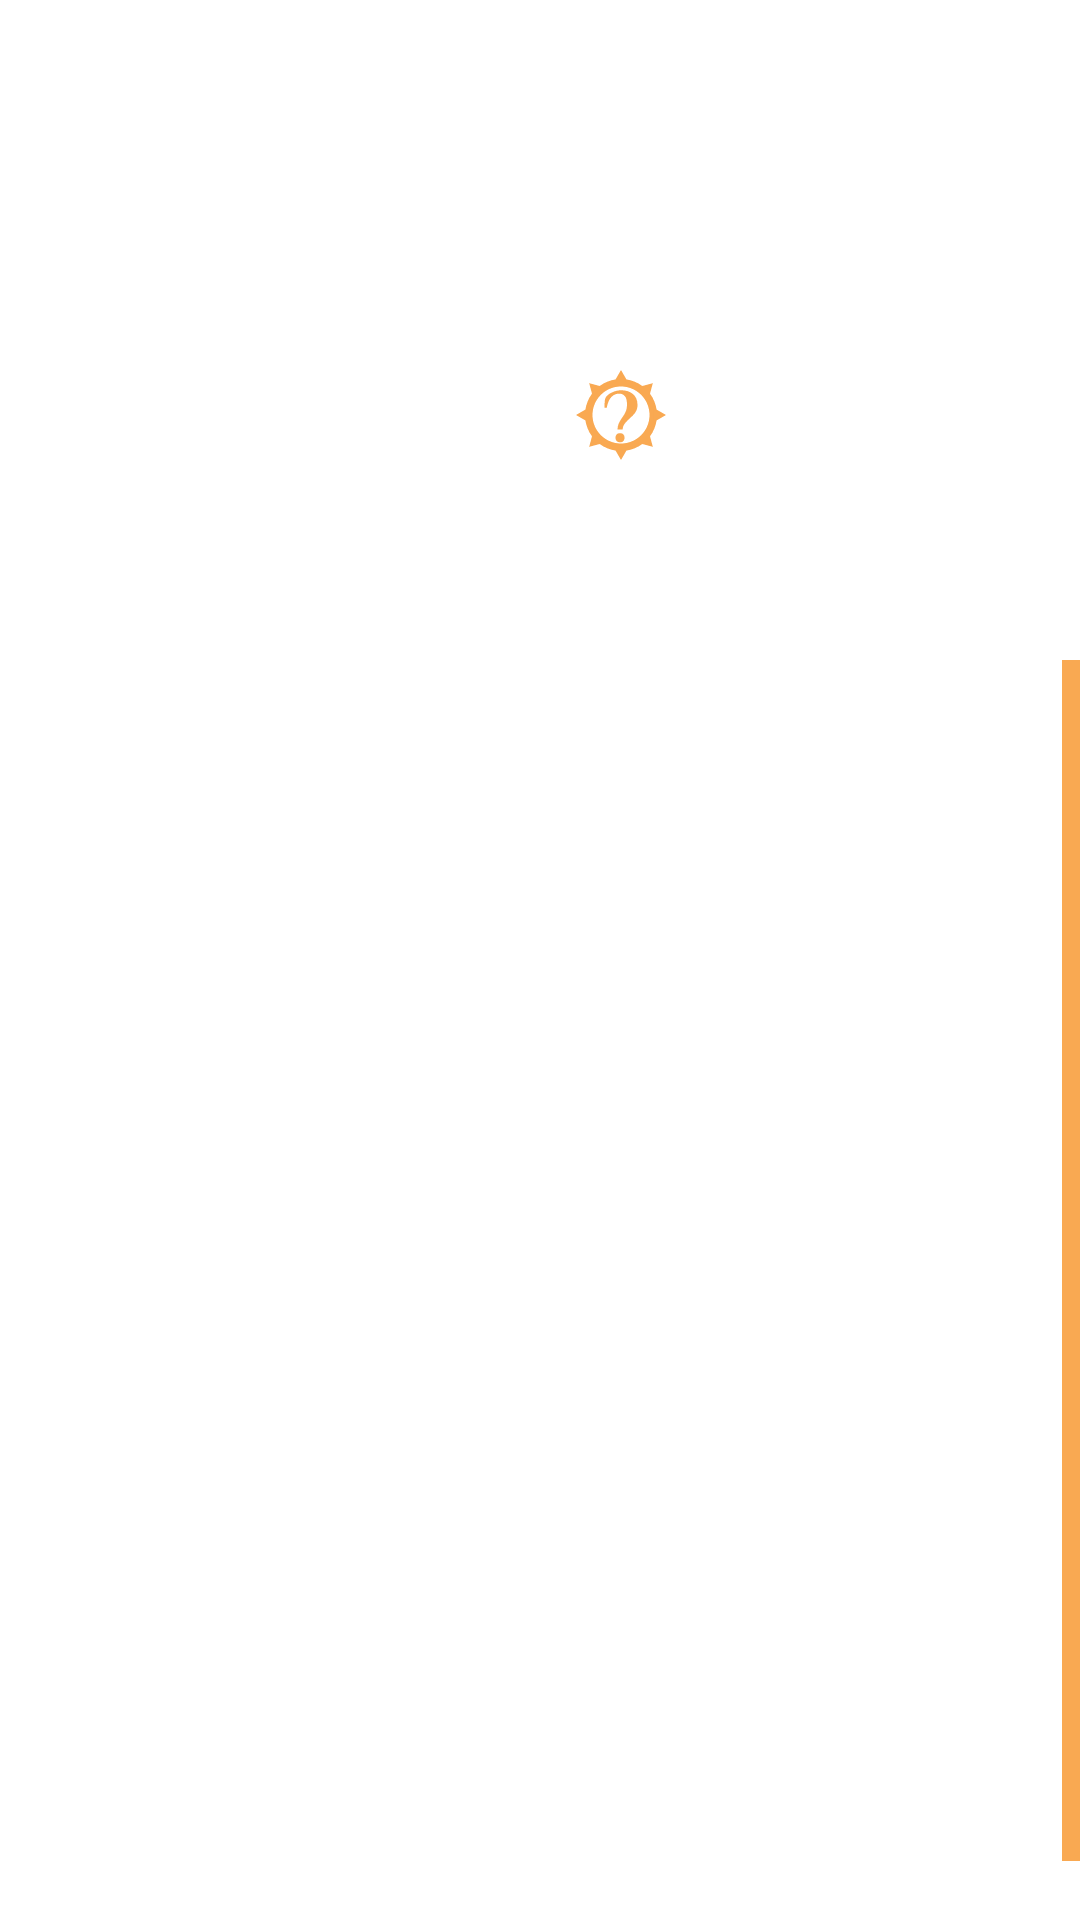

Icons on this 1080 x 1920 Android screen, each with the point to tap as (x=x, y=y):
question: (x=621, y=415)
